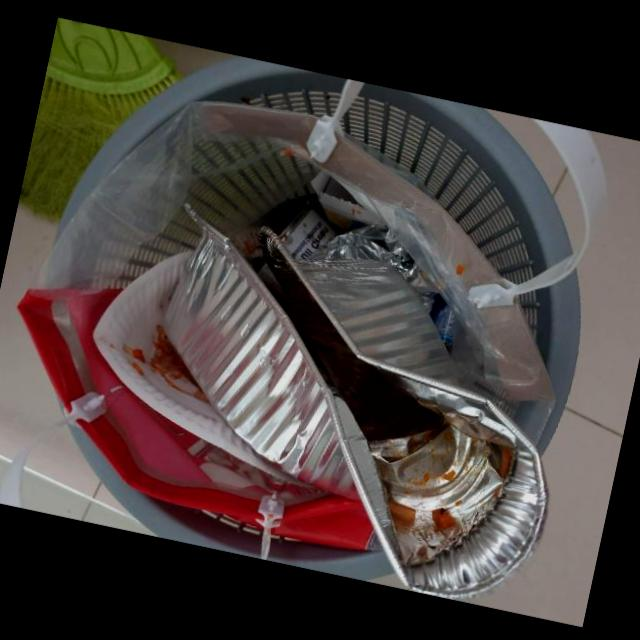carton: (92, 251, 310, 487), (309, 169, 389, 230)
giay: (16, 289, 373, 548)
nhom: (161, 201, 549, 602), (306, 224, 439, 314), (277, 205, 341, 258)
